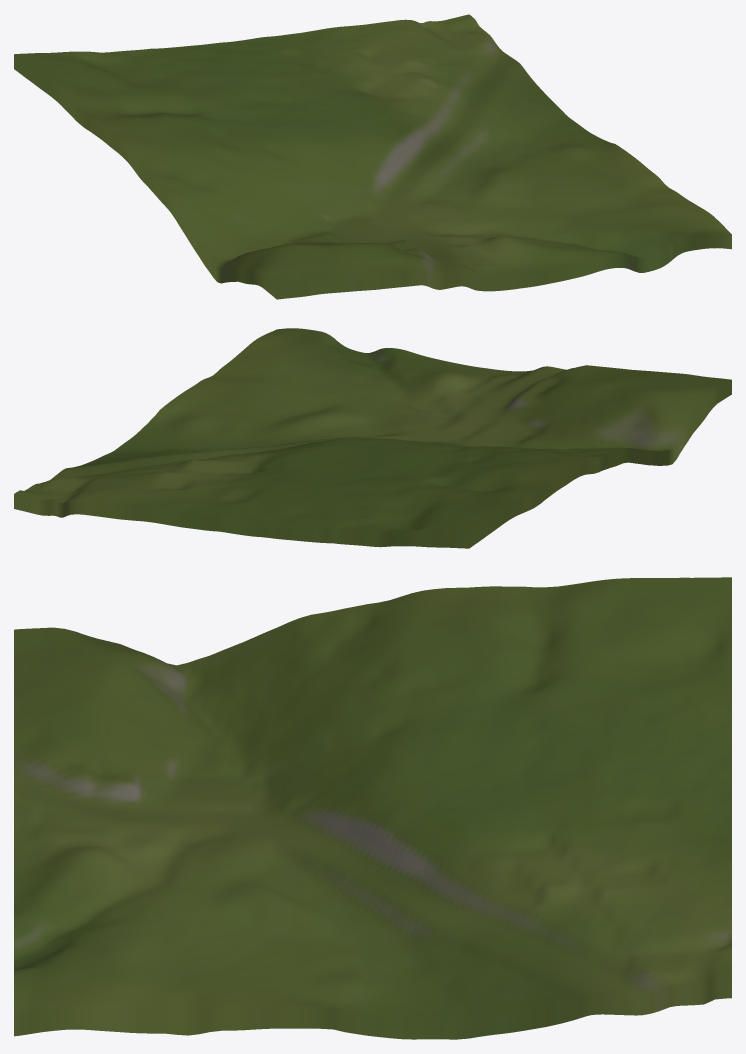
Rendered from terrain_8_-20.glb.
3 renders of one model, top to bottom at view 1: azimuth 30°, elevation 25°; view 2: azimuth 150°, elevation 25°; view 3: azimuth 270°, elevation 25°, orthographic. The views are drawn at different scales.
Visible parts, largest first — view 1: terrain_8_-20; view 2: terrain_8_-20; view 3: terrain_8_-20.
Boxes of the visible parts, x1,y1,x2,y2 form: terrain_8_-20: (14, 14, 731, 299); terrain_8_-20: (14, 328, 731, 548); terrain_8_-20: (14, 577, 731, 1039).
Size of the model in its own units: 256 by 62.42 by 256.
